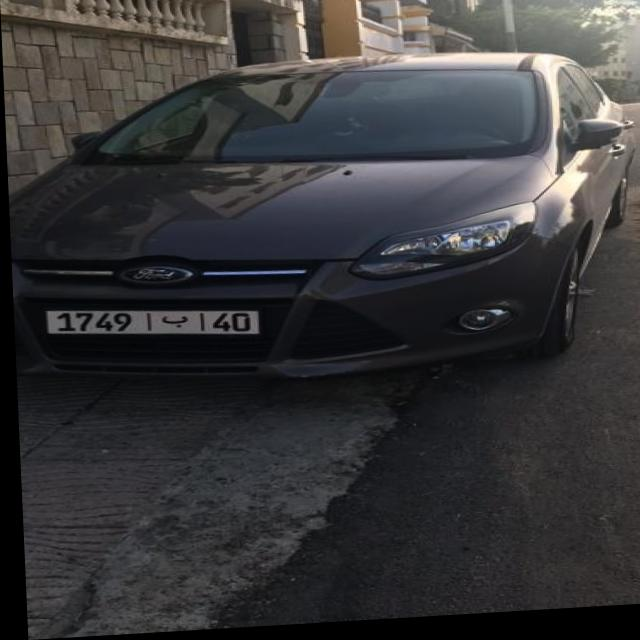License-Plate: (42, 310, 257, 337)
